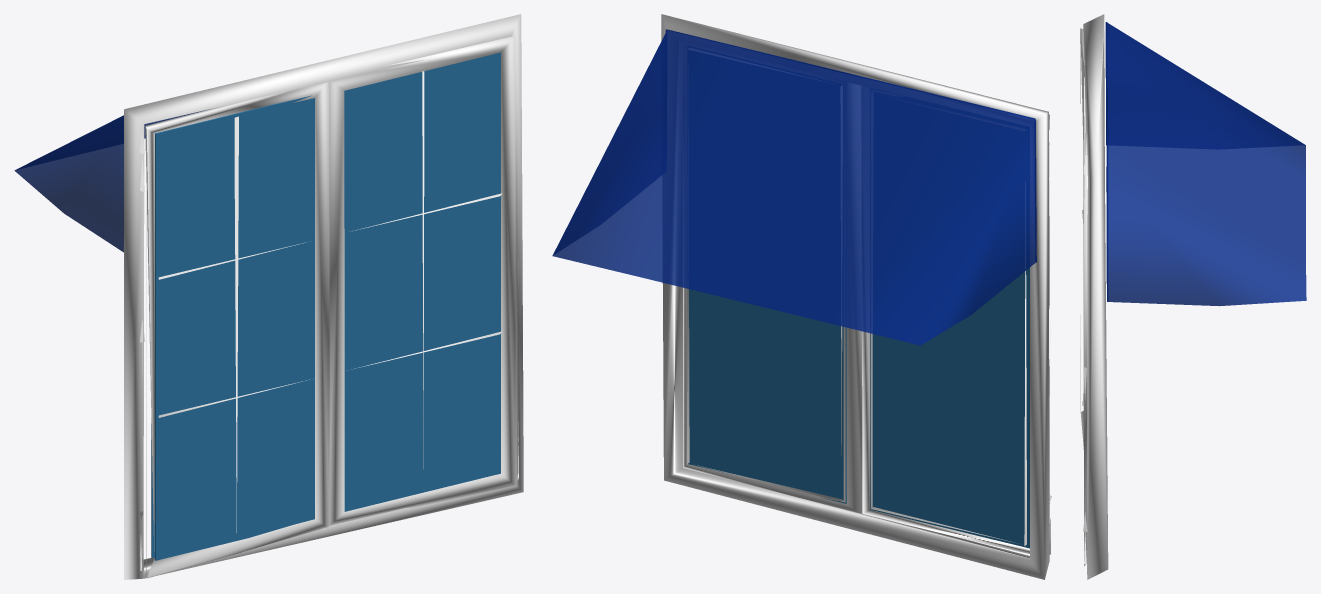
The model's file is win03.FBX.
3 renders of one model, left to right at view 1: azimuth 30°, elevation 25°; view 2: azimuth 150°, elevation 25°; view 3: azimuth 270°, elevation 25°, orthographic. The views are drawn at different scales.
Visible parts, largest first — view 1: archmodels95_069_002, archmodels95_069_001, archmodels95_059_001; view 2: archmodels95_069_002, archmodels95_059_001, archmodels95_069_001; view 3: archmodels95_059_001, archmodels95_069_001.
Part boxes in pixels (x1,y1,x2,y2): archmodels95_069_002: [151, 52, 500, 560]; archmodels95_069_001: [124, 14, 523, 579]; archmodels95_059_001: [14, 109, 208, 252]; archmodels95_069_002: [688, 46, 1029, 548]; archmodels95_059_001: [552, 29, 1036, 345]; archmodels95_069_001: [661, 14, 1051, 579]; archmodels95_059_001: [1105, 22, 1306, 306]; archmodels95_069_001: [1080, 14, 1108, 579].
Bounding box in the file's own units: 87.65 × 101 × 51.03.
